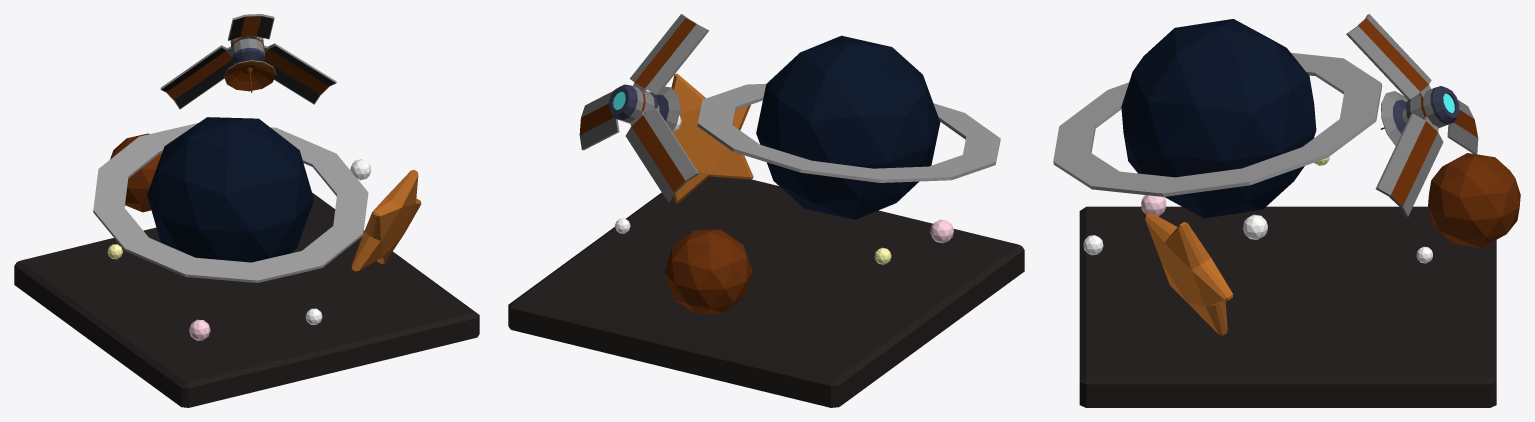
File: W_O_Playground_SpaceSymbolic_002_L0.fbx
3 views of the same model, side by side, from view 1: azimuth 30°, elevation 25°; view 2: azimuth 150°, elevation 25°; view 3: azimuth 270°, elevation 25° (orthographic). The views are drawn at different scales.
Parts seen in each view (by area): view 1: W_O_Playground_SpaceSymbolic_002_L0; view 2: W_O_Playground_SpaceSymbolic_002_L0; view 3: W_O_Playground_SpaceSymbolic_002_L0.
Boxes of the visible parts, x1,y1,x2,y2 form: W_O_Playground_SpaceSymbolic_002_L0: (14,14,479,407); W_O_Playground_SpaceSymbolic_002_L0: (508,14,1024,407); W_O_Playground_SpaceSymbolic_002_L0: (1053,14,1520,407).
Size of the model in its own units: 2.1 by 1.69 by 2.24.
